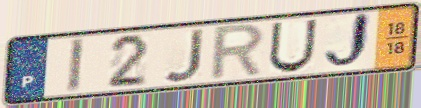2: (105, 33, 151, 90)
I: (64, 36, 87, 95)
J: (321, 10, 373, 73), (161, 26, 208, 84)
R: (207, 21, 268, 83)
U: (266, 17, 321, 75)
